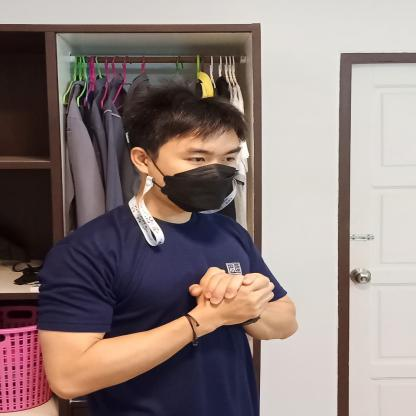Grieve: (162, 259, 304, 353)
